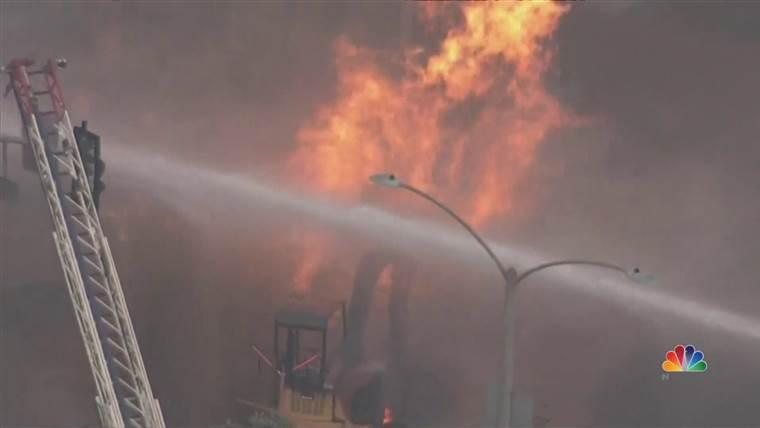Fire: (297, 2, 596, 275)
